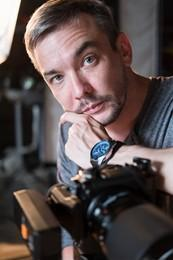face: (38, 42, 128, 126)
